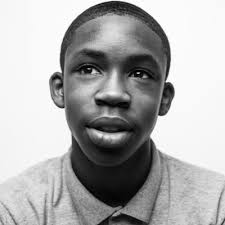BOY: (49, 6, 176, 163)
